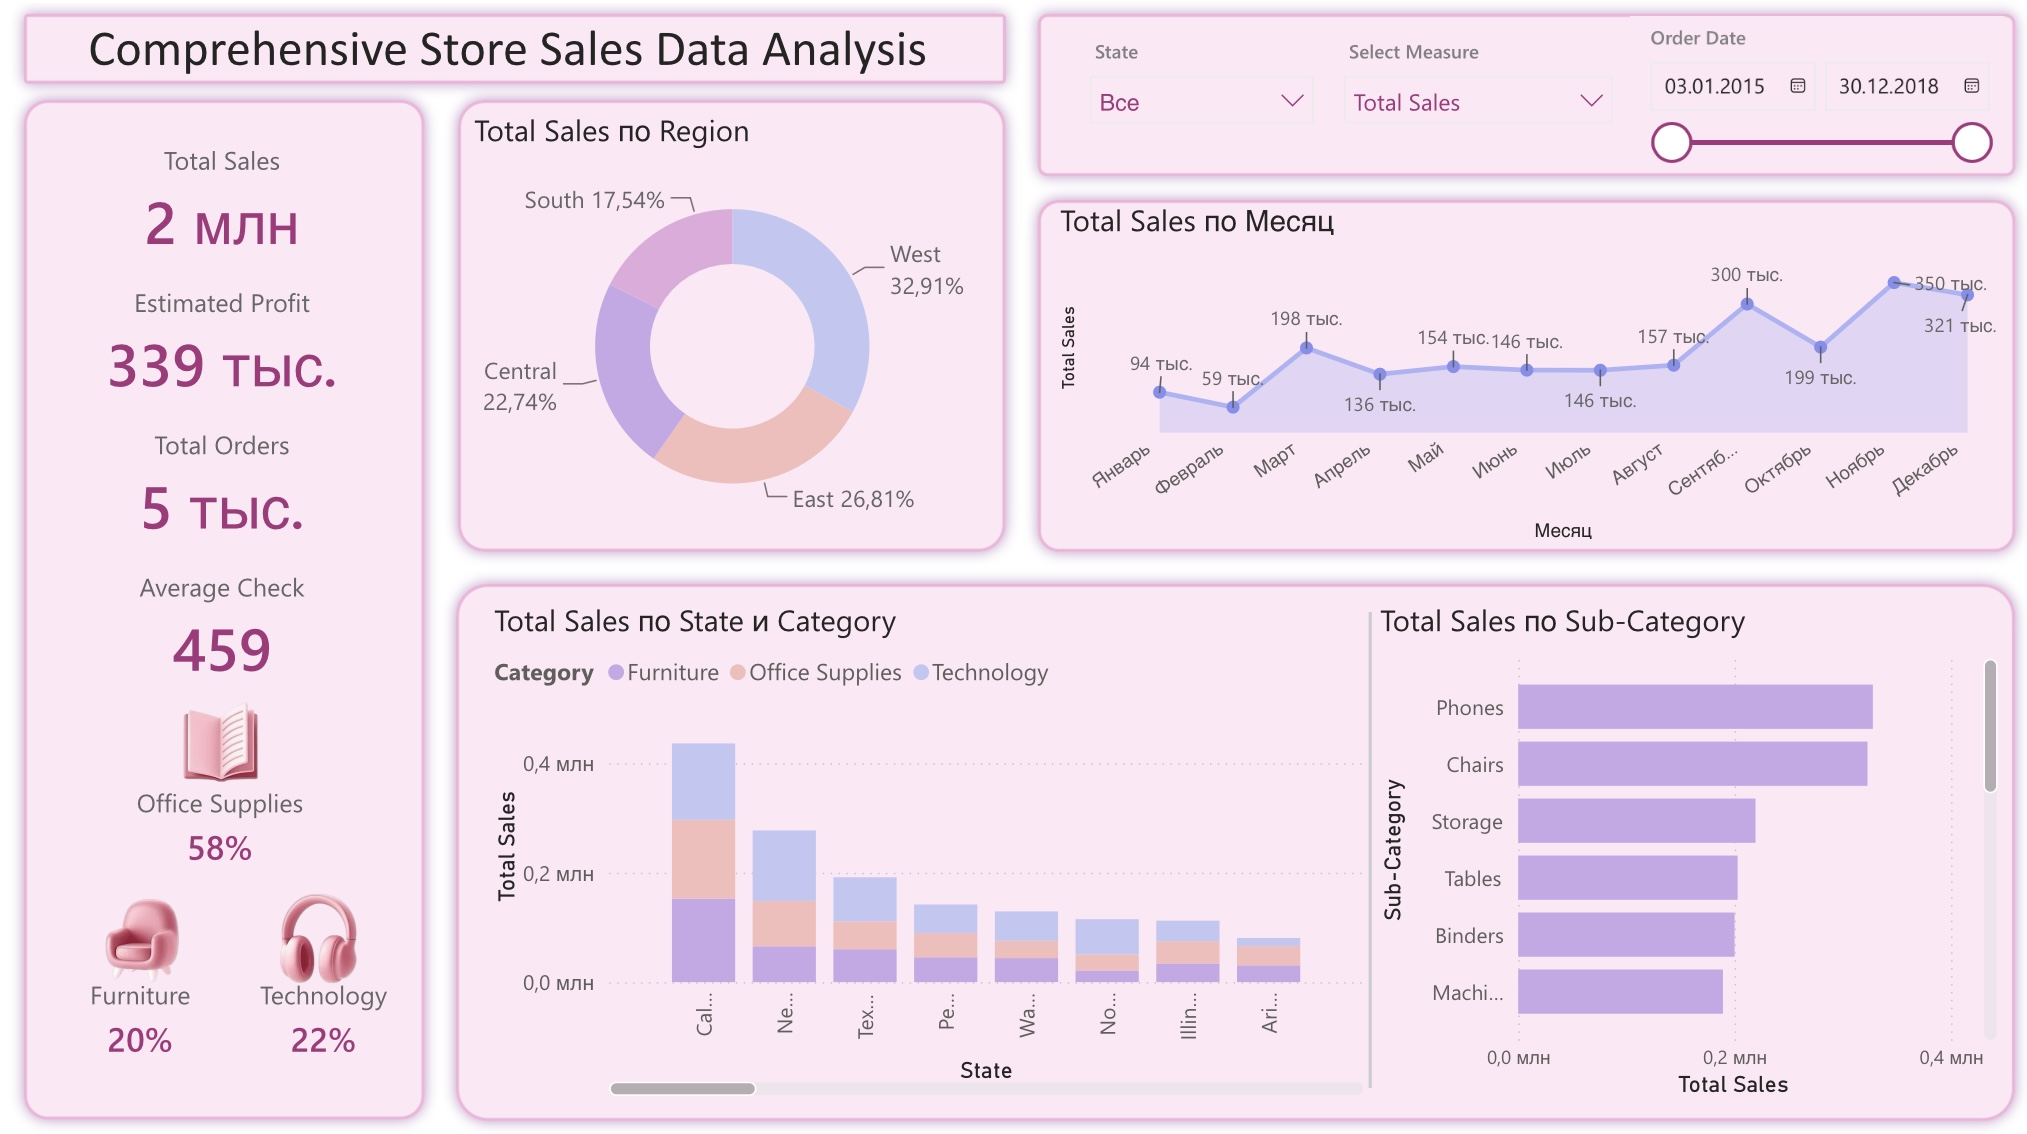

Layout of this report page (visuals, bound fields, positions):
{"tool":"powerbi","page":{"name":"Data Analysis","canvas":[1280,720],"ordinal":0},"visuals":[{"type":"textbox","box":[10,0,280,280],"z":0},{"type":"textbox","box":[0,0,371.5,54.7],"z":1000},{"type":"shape","box":[0,54.7,273.6,665.3],"z":2000},{"type":"cardVisual","fields":{"Data":["_Measures.Total Sales","_Measures.Estimated Profit","_Measures.Total Orders","_Measures.Average Check"]},"box":[15.1,74.2,240.9,380.2],"z":3000},{"type":"cardVisual","fields":{"Data":["_Measures.Furniture Part %","_Measures.Technology Part %"]},"box":[15.8,591.8,250.6,108],"z":4000},{"type":"cardVisual","fields":{"Data":["_Measures.Office Supplies"]},"box":[14.4,470.9,240.5,108],"z":5000},{"type":"shape","box":[274.2,54.5,366.6,306],"z":6000},{"type":"donutChart","fields":{"Y":["_Measures.Total Sales"],"Category":["DimGeography.Region"]},"box":[289.4,69.1,337,275],"z":7000},{"type":"shape","box":[273.6,360,1006.6,360],"z":8000},{"type":"columnChart","fields":{"Y":["_Measures.Total Sales"],"Category":["DimGeography.State"],"Series":["DimProduct.Category"]},"box":[302.4,380.2,560.2,319.7],"z":9000},{"type":"shape","box":[641.4,117.1,638.6,242.9],"z":10000},{"type":"areaChart","fields":{"Y":["_Measures.Total Sales"],"Category":["FactSales.Order Date.Изменение.Иерархия дат.Год","FactSales.Order Date.Изменение.Иерархия дат.Квартал","FactSales.Order Date.Изменение.Иерархия дат.Месяц","FactSales.Order Date.Изменение.Иерархия дат.День"]},"box":[660,127.1,602.9,221.4],"z":11000},{"type":"barChart","fields":{"Y":["_Measures.Total Sales"],"Category":["DimProduct.Sub-Category"]},"box":[862.6,380.2,400.3,319.7],"z":12000},{"type":"shape","box":[711.4,388.6,301.4,301.4],"z":13000},{"type":"image","box":[30.2,555.8,105.1,90.7],"z":14000},{"type":"image","box":[96.5,436.3,80.6,69.1],"z":15000},{"type":"image","box":[149.8,555.8,96.5,74.9],"z":16000},{"type":"shape","box":[0,0,641.4,64.3],"z":17000},{"type":"textbox","box":[45.7,5.7,581.4,54.3],"z":18000},{"type":"shape","box":[641.4,0,638.6,122.9],"z":19000},{"type":"slicer","fields":{"Values":["FactSales.Order Date"]},"box":[1025.7,11.4,237.1,98.6],"z":20000},{"type":"slicer","fields":{"Values":["Select Measure.Select Measure"]},"box":[835.7,20,190,67.1],"z":21000},{"type":"slicer","fields":{"Values":["DimGeography.State"]},"box":[674.3,20,161.4,67.1],"z":22000}]}

Visuals, with their boxes in screenshot pixels (x1, y1, x2, y2), scaled from the page's 1280x720 canvas onto the 2027x1134 screenshot:
textbox: box(16, 0, 459, 441)
textbox: box(0, 0, 588, 86)
shape: box(0, 86, 433, 1133)
cardVisual - _Measures.Total Sales x _Measures.Estimated Profit: box(24, 117, 405, 716)
cardVisual - _Measures.Furniture Part % x _Measures.Technology Part %: box(25, 932, 422, 1102)
cardVisual - _Measures.Office Supplies: box(23, 742, 404, 912)
shape: box(434, 86, 1015, 568)
donutChart - _Measures.Total Sales x DimGeography.Region: box(458, 109, 992, 542)
shape: box(433, 567, 2026, 1133)
columnChart - _Measures.Total Sales x DimGeography.State: box(479, 599, 1366, 1102)
shape: box(1016, 184, 2026, 567)
areaChart - _Measures.Total Sales x FactSales.Order Date.Изменение.Иерархия дат.Год: box(1045, 200, 2000, 549)
barChart - _Measures.Total Sales x DimProduct.Sub-Category: box(1366, 599, 2000, 1102)
shape: box(1127, 612, 1604, 1087)
image: box(48, 875, 214, 1018)
image: box(153, 687, 280, 796)
image: box(237, 875, 390, 993)
shape: box(0, 0, 1016, 101)
textbox: box(72, 9, 993, 94)
shape: box(1016, 0, 2026, 194)
slicer - FactSales.Order Date: box(1624, 18, 2000, 173)
slicer - Select Measure.Select Measure: box(1323, 32, 1624, 137)
slicer - DimGeography.State: box(1068, 32, 1323, 137)
